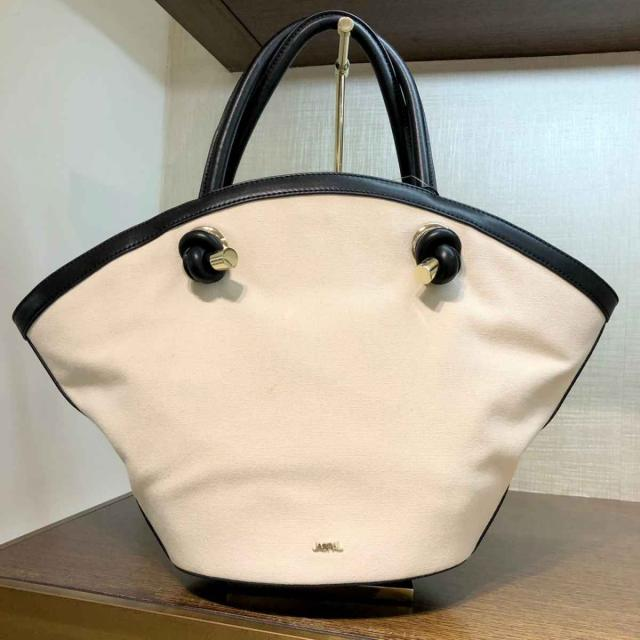Handbag: (0, 149, 627, 640)
